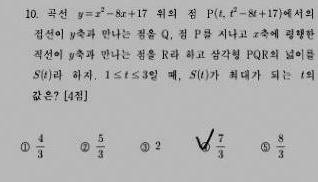choice: (195, 136, 212, 153)
not-choice: (259, 140, 272, 154), (79, 140, 91, 153), (19, 141, 31, 153), (138, 141, 150, 153)
